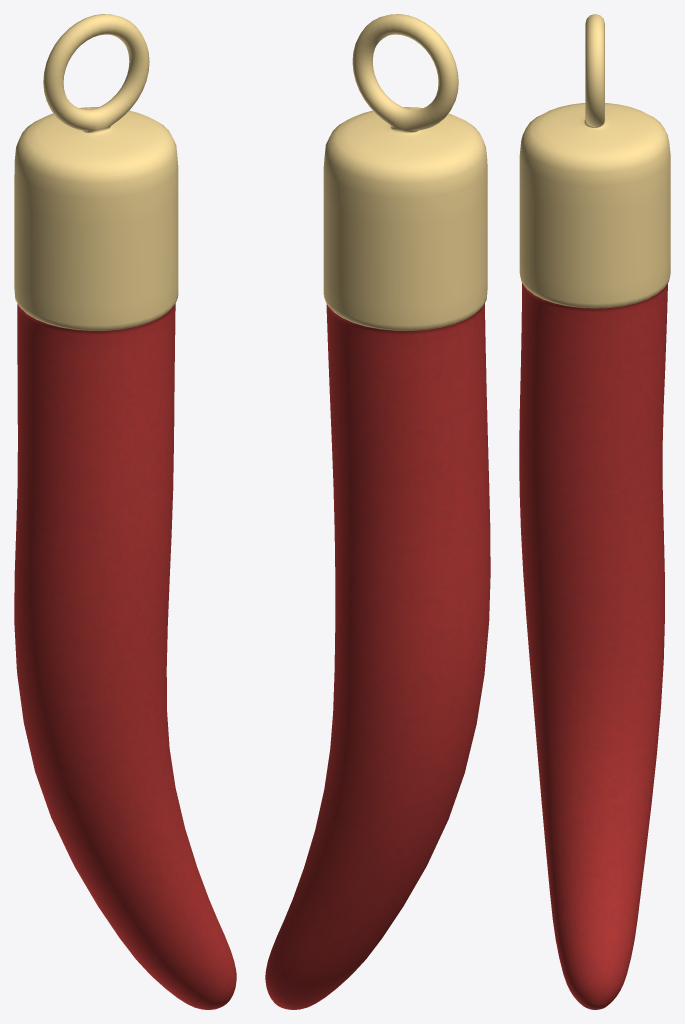
Rendered from coral.glb.
3 renders of one model, left to right at view 1: azimuth 30°, elevation 25°; view 2: azimuth 150°, elevation 25°; view 3: azimuth 270°, elevation 25°, orthographic. The views are drawn at different scales.
Visible parts, largest first — view 1: coral; view 2: coral; view 3: coral.
Part boxes in pixels (x1=…): coral: x1=14, y1=14, x2=236, y2=1009; coral: x1=265, y1=14, x2=490, y2=1009; coral: x1=519, y1=14, x2=670, y2=1009.
Bounding box in the file's own units: 0.00869 × 0.0405 × 0.00593.
1 material, 1 textured.
